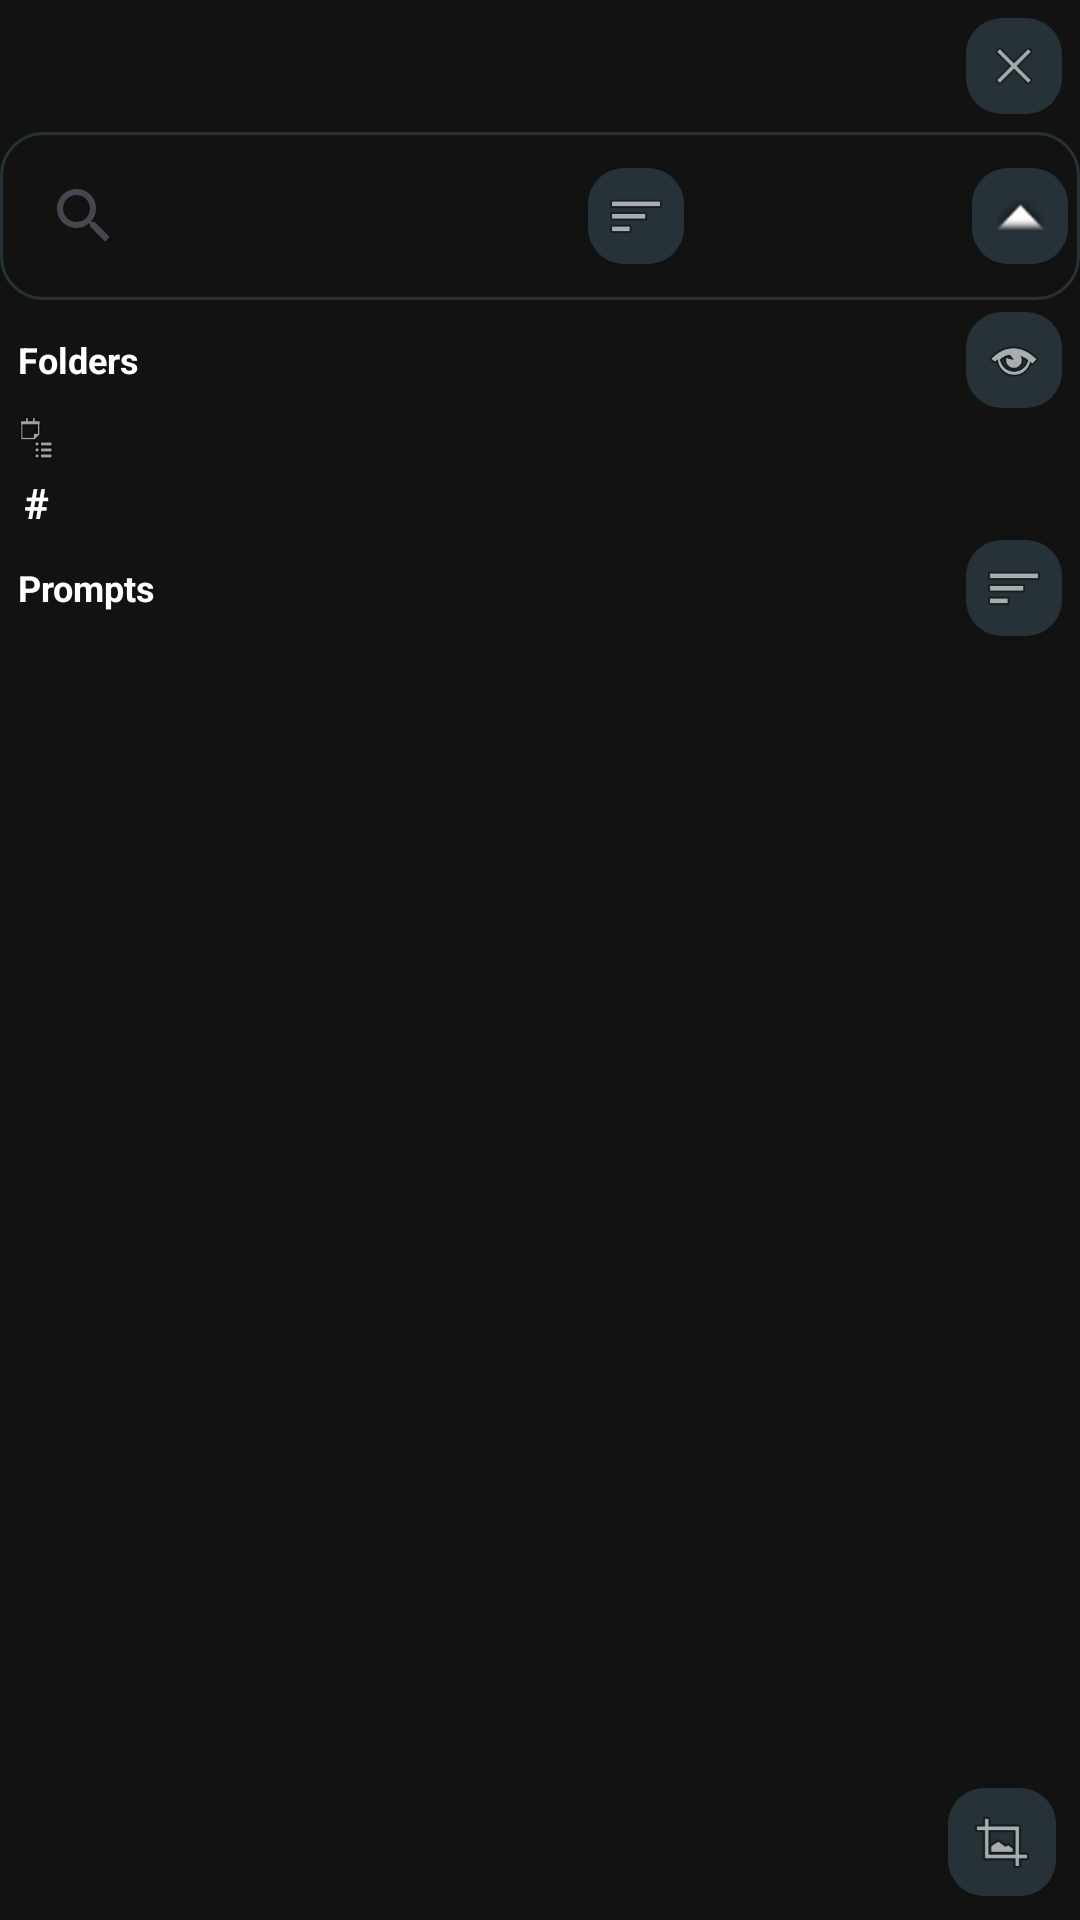

Locate icon controls on the screen. Image size 1080 x 1920, boxes as {"x1": x1, "y1": y1, "x2": x2, "y2": y2}.
Close: {"x1": 966, "y1": 18, "x2": 1062, "y2": 114}
Sort: {"x1": 588, "y1": 168, "x2": 684, "y2": 264}
Toggle folder view: {"x1": 966, "y1": 312, "x2": 1062, "y2": 408}
Toggle sort direction: {"x1": 972, "y1": 168, "x2": 1068, "y2": 264}
